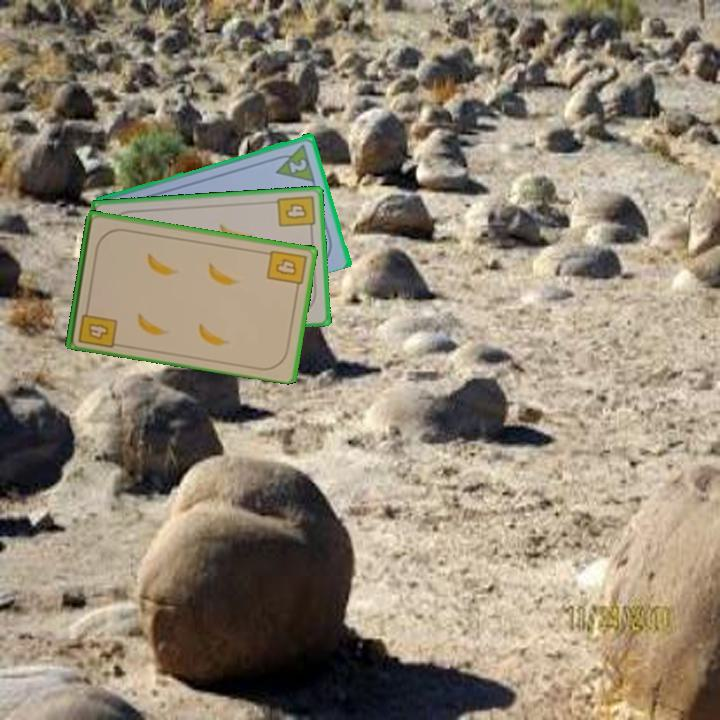2p: (269, 140, 318, 184)
4b: (74, 301, 120, 350), (263, 246, 309, 293), (274, 191, 317, 235)
